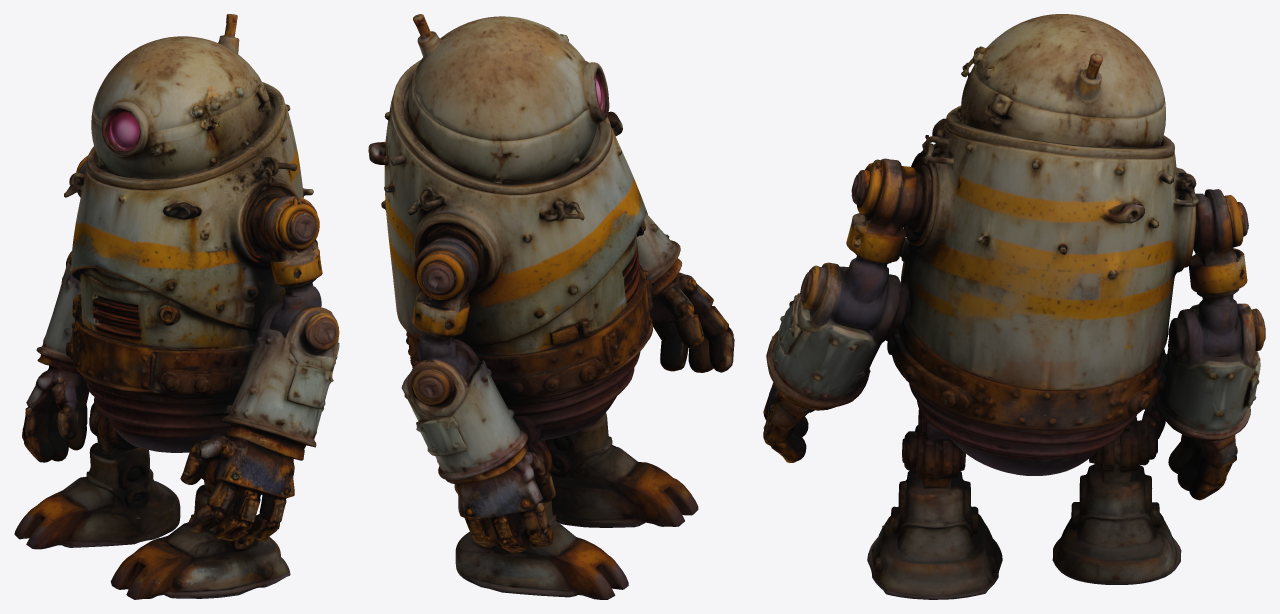
The model's file is pixellabs-robot-3332.high.glb.
3 views of the same model, side by side, from view 1: azimuth 30°, elevation 25°; view 2: azimuth 150°, elevation 25°; view 3: azimuth 270°, elevation 25° (orthographic). The views are drawn at different scales.
Parts seen in each view (by area): view 1: material; view 2: material; view 3: material.
Part boxes in pixels (bbox=[...]): material: bbox=[14, 14, 339, 599]; material: bbox=[368, 14, 734, 599]; material: bbox=[763, 14, 1265, 599].
Bounding box in the file's own units: 0.5236 × 0.9965 × 0.8092.
Materials: 1 (1 with a texture image).
